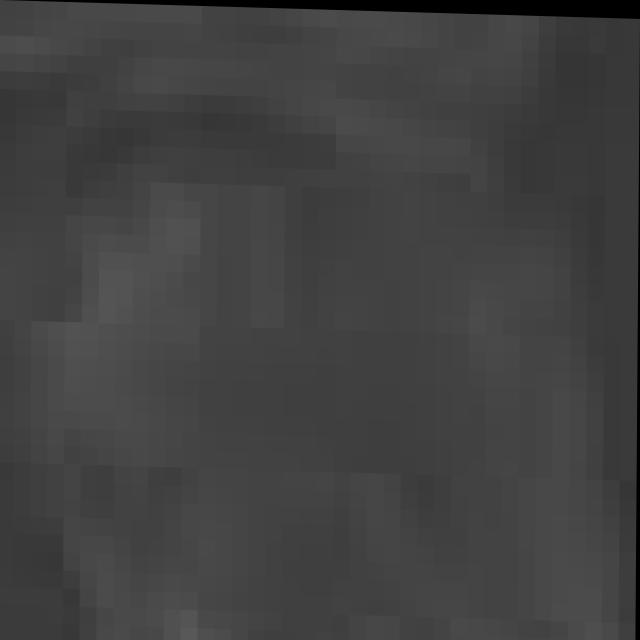fracture: (0, 12, 639, 640)
